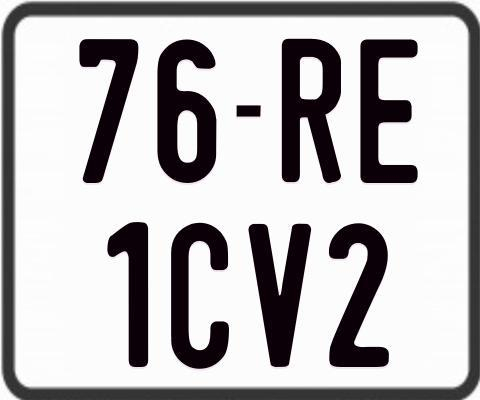1: (104, 220, 147, 365)
2: (328, 220, 392, 368)
6: (157, 39, 222, 185)
7: (79, 37, 140, 184)
C: (170, 221, 232, 372)
E: (357, 39, 416, 185)
R: (282, 38, 346, 186)
V: (249, 223, 311, 368)
